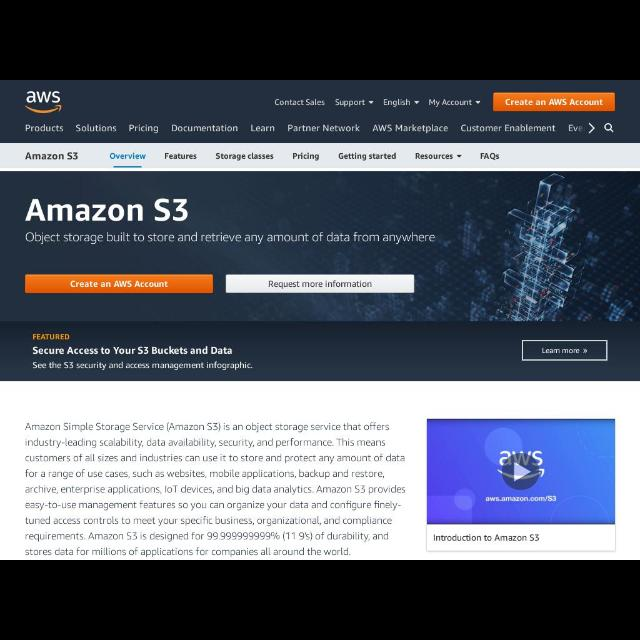backgroundimage: (456, 173, 638, 321)
icon: (604, 123, 614, 133), (588, 122, 596, 134), (368, 101, 374, 105), (414, 101, 420, 105), (475, 101, 481, 105), (456, 154, 462, 158)
image: (427, 420, 616, 524), (24, 90, 62, 116)
multitab: (1, 144, 639, 166)
panel: (1, 171, 639, 321), (1, 322, 640, 381), (427, 420, 616, 550)
spinner: (429, 99, 481, 107), (336, 99, 374, 107), (384, 99, 420, 107)
text: (29, 424, 405, 558), (32, 346, 254, 370), (26, 232, 434, 244), (25, 198, 189, 222), (434, 534, 540, 542), (268, 280, 372, 288), (70, 280, 168, 288), (460, 124, 556, 132), (372, 124, 448, 134), (505, 98, 603, 105), (288, 124, 360, 132), (172, 124, 238, 132), (216, 153, 274, 161), (338, 153, 396, 161), (26, 152, 78, 160), (428, 99, 472, 107), (275, 98, 325, 105), (76, 124, 118, 132), (26, 124, 64, 132), (415, 152, 453, 160), (129, 124, 159, 134), (110, 152, 146, 160), (542, 348, 588, 354), (335, 99, 365, 107), (32, 334, 70, 340), (292, 153, 320, 161), (384, 99, 411, 107), (251, 124, 275, 132), (165, 154, 197, 160), (480, 153, 500, 161), (568, 124, 584, 132)
textbutton: (24, 274, 214, 294), (225, 274, 415, 294), (493, 92, 615, 111), (522, 341, 608, 362)
toolbar: (1, 81, 639, 143)
